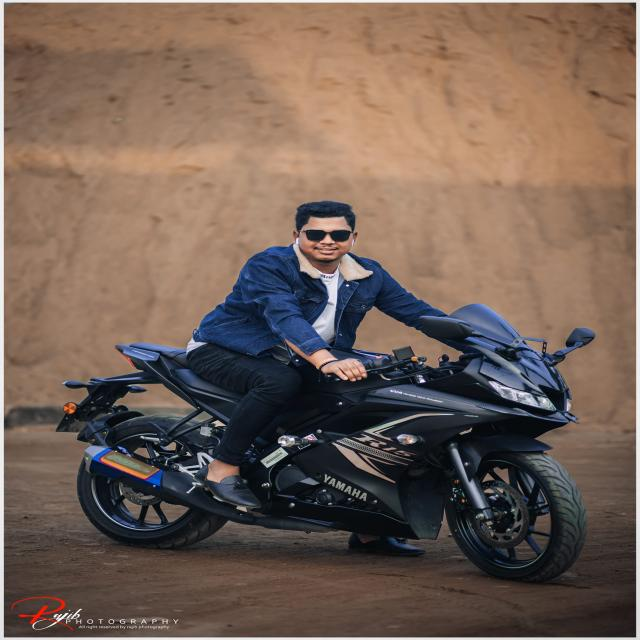Not Wearing Helmet: (239, 200, 424, 295)
